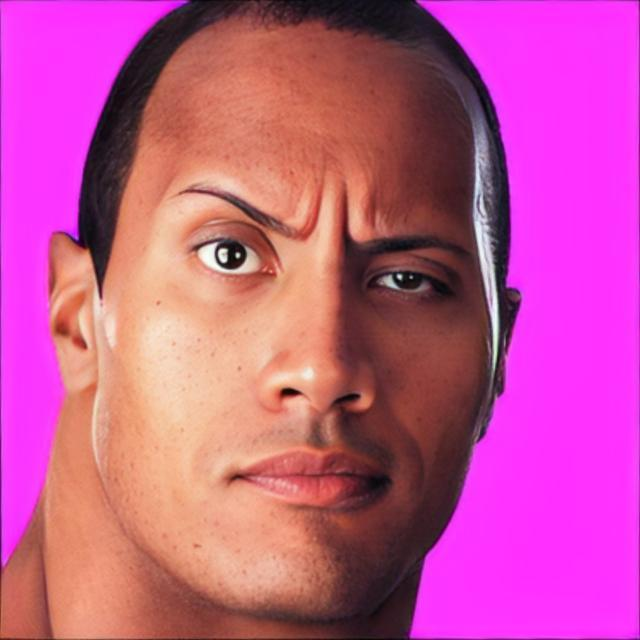anger: (94, 68, 496, 626)
